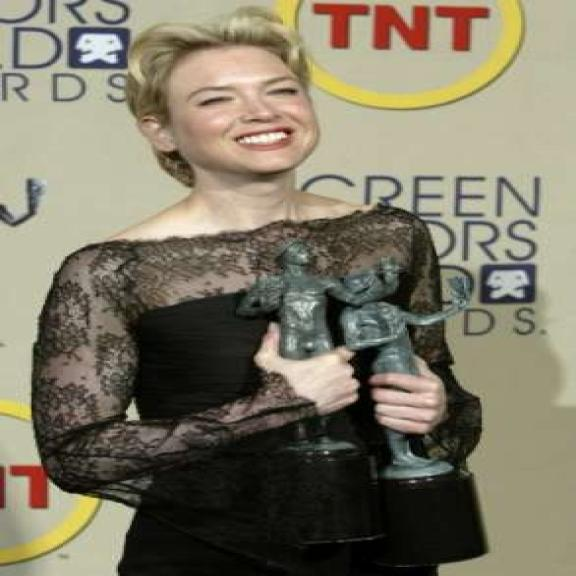face: (132, 38, 320, 179)
